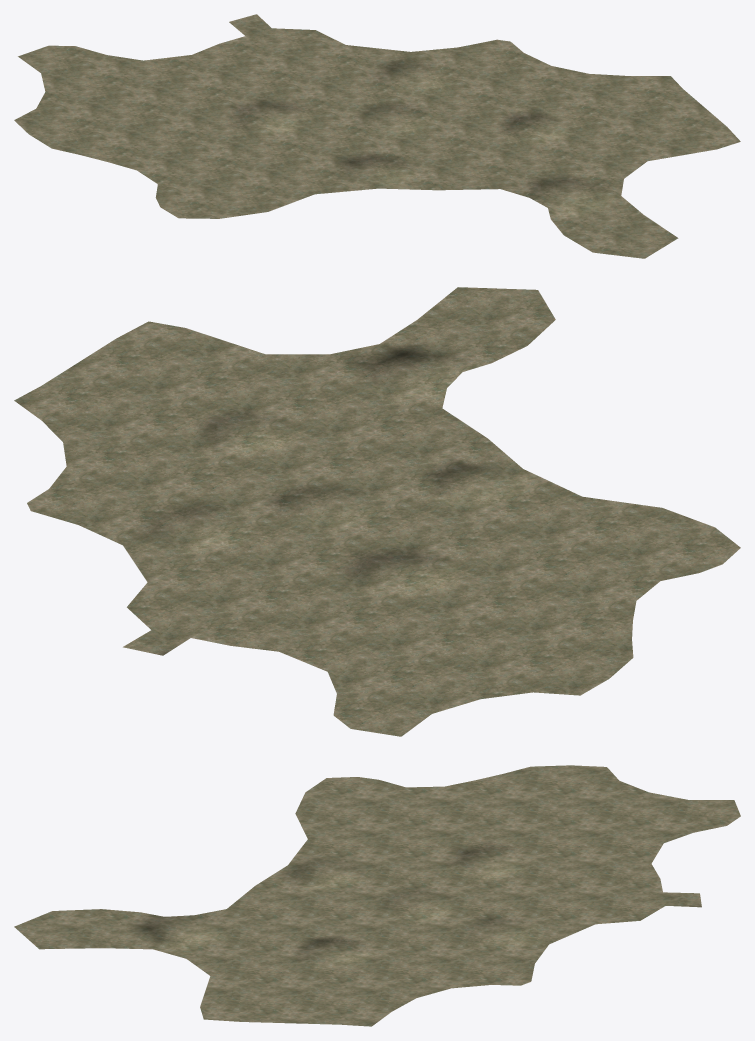
Rendered from EKH_JAIL_PS_JA_OUIB_FLOOR939838.fbx.
3 renders of one model, top to bottom at view 1: azimuth 30°, elevation 25°; view 2: azimuth 150°, elevation 25°; view 3: azimuth 270°, elevation 25°, orthographic. The views are drawn at different scales.
Visible parts, largest first — view 1: EKH_JAIL_PS_JA_OUIB_FLOOR939838; view 2: EKH_JAIL_PS_JA_OUIB_FLOOR939838; view 3: EKH_JAIL_PS_JA_OUIB_FLOOR939838.
Part boxes in pixels (x1,y1,x2,y2): EKH_JAIL_PS_JA_OUIB_FLOOR939838: (14, 14, 740, 258); EKH_JAIL_PS_JA_OUIB_FLOOR939838: (14, 287, 740, 736); EKH_JAIL_PS_JA_OUIB_FLOOR939838: (14, 765, 740, 1026).
Size of the model in its own units: 165911 by 0.044 by 195072.
Materials: 1 (1 with a texture image).
